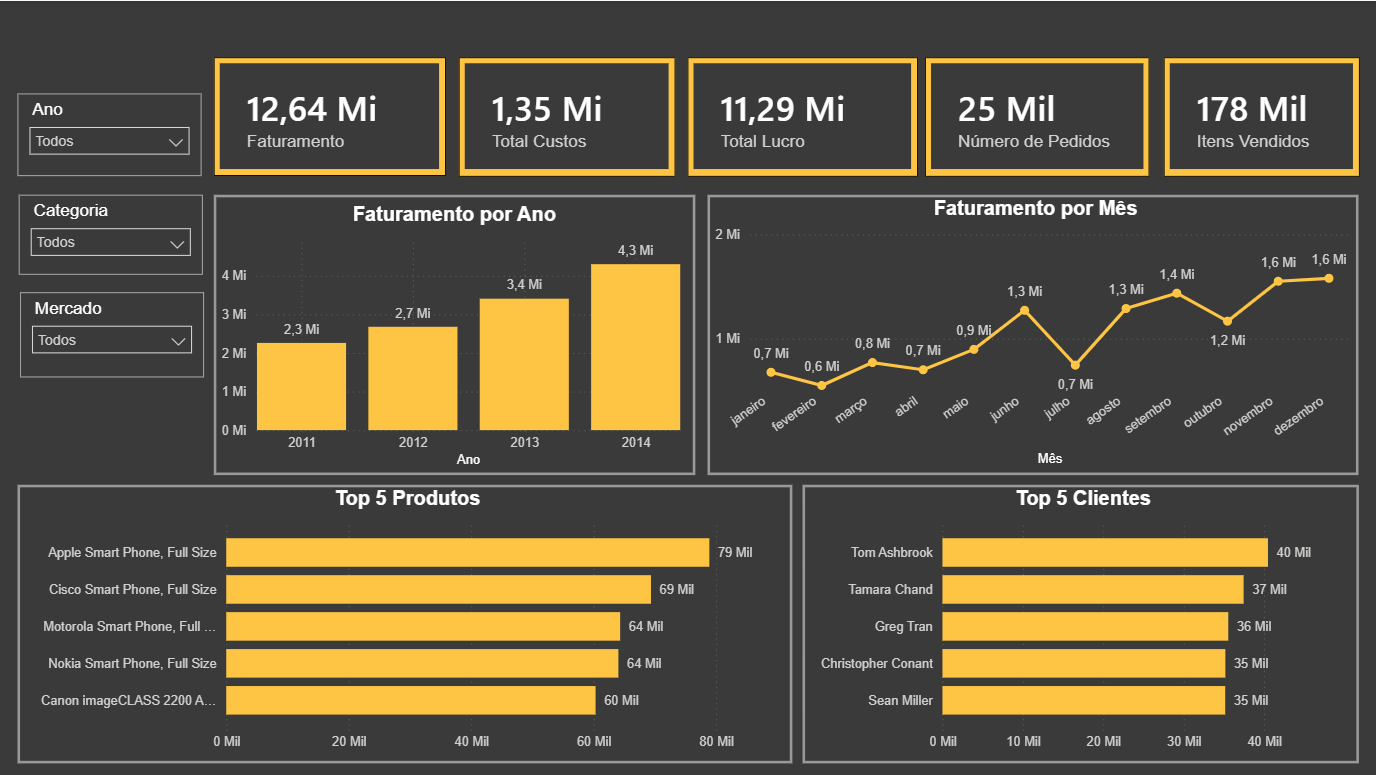

The dashboard page shown, as its layout file describes it:
{"tool":"powerbi","page":{"name":"Página 1","canvas":[1280,720],"ordinal":0},"visuals":[{"type":"cardVisual","fields":{"Data":["Vendas.Faturamento"]},"box":[198.8,52.3,216.3,110.5],"z":0},{"type":"cardVisual","fields":{"Data":["Vendas.Total Custos"]},"box":[426.7,52.3,202.3,110.5],"z":1000},{"type":"cardVisual","fields":{"Data":["Vendas.Total Lucro"]},"box":[640,52.3,214.2,110.9],"z":2000},{"type":"cardVisual","fields":{"Data":["Pedidos.Número de Pedidos"]},"box":[865.1,52.3,209.3,110.5],"z":3000},{"type":"cardVisual","fields":{"Data":["Vendas.Itens Vendidos"]},"box":[1082.4,52.3,182.3,110.9],"z":4000},{"type":"slicer","fields":{"Values":["Pedidos.Data Pedido.Variation.Hierarquia de datas.Ano"]},"box":[16.3,86,170.9,84.9],"z":5000},{"type":"slicer","fields":{"Values":["Produtos.Categoria"]},"box":[16.3,207,170.9,81.4],"z":6000},{"type":"clusteredColumnChart","fields":{"Category":["Pedidos.Data Pedido.Variation.Hierarquia de datas.Ano"],"Y":["Vendas.Faturamento"]},"box":[198.8,180.4,447.7,260.7],"z":7000},{"type":"lineChart","fields":{"Category":["Pedidos.Data Pedido.Variation.Hierarquia de datas.Mês"],"Y":["Vendas.Faturamento"]},"box":[658.4,180.4,605.8,260.7],"z":8000},{"type":"barChart","title":"Top 5 Produtos","fields":{"Category":["Produtos.Nome Produto"],"Y":["Vendas.Total Lucro"]},"box":[16.3,450,720.9,259.3],"z":9000},{"type":"barChart","title":"Top 5 Clientes","fields":{"Category":["Clientes.Nome Cliente"],"Y":["Vendas.Faturamento"]},"box":[746.5,450,517.4,259.3],"z":10000},{"type":"slicer","fields":{"Values":["Clientes.Mercado"]},"box":[16.3,324.4,170.9,90.7],"z":11000}]}

Visuals, with their boxes in screenshot pixels (x1, y1, x2, y2), scaled from the page's 1280x720 canvas onto the 1376x775 screenshot:
cardVisual - Vendas.Faturamento: [left=214, top=56, right=446, bottom=175]
cardVisual - Vendas.Total Custos: [left=459, top=56, right=676, bottom=175]
cardVisual - Vendas.Total Lucro: [left=688, top=56, right=918, bottom=176]
cardVisual - Pedidos.Número de Pedidos: [left=930, top=56, right=1155, bottom=175]
cardVisual - Vendas.Itens Vendidos: [left=1164, top=56, right=1360, bottom=176]
slicer - Pedidos.Data Pedido.Variation.Hierarquia de datas.Ano: [left=18, top=93, right=201, bottom=184]
slicer - Produtos.Categoria: [left=18, top=223, right=201, bottom=310]
clusteredColumnChart - Pedidos.Data Pedido.Variation.Hierarquia de datas.Ano x Vendas.Faturamento: [left=214, top=194, right=695, bottom=475]
lineChart - Pedidos.Data Pedido.Variation.Hierarquia de datas.Mês x Vendas.Faturamento: [left=708, top=194, right=1359, bottom=475]
"Top 5 Produtos" barChart: [left=18, top=484, right=792, bottom=763]
"Top 5 Clientes" barChart: [left=802, top=484, right=1359, bottom=763]
slicer - Clientes.Mercado: [left=18, top=349, right=201, bottom=447]
